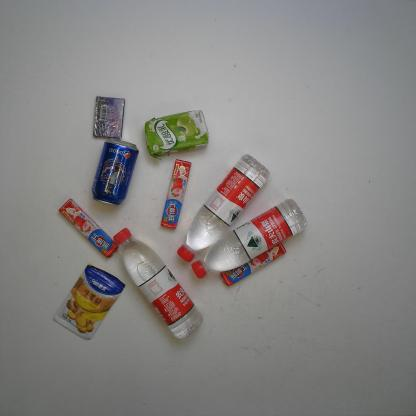Candy: (57, 196, 120, 258), (218, 240, 288, 287), (160, 159, 193, 231)
Drink: (111, 224, 205, 344), (175, 154, 272, 264), (191, 198, 308, 280), (91, 137, 140, 207)
Gum: (93, 95, 125, 140)
Milk: (144, 110, 209, 161)
Seasoner: (50, 260, 126, 342)
